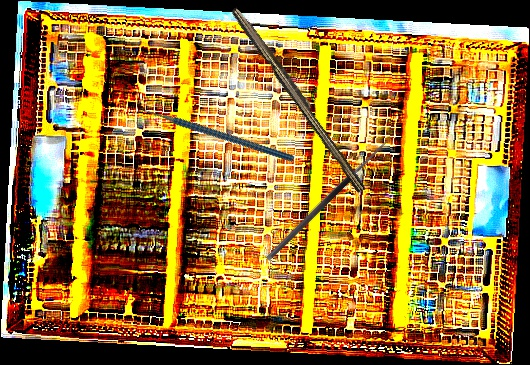Chopper: (126, 60, 296, 212)
Hook Surgical: (259, 129, 393, 263)
Scalpel Handle: (227, 4, 372, 194)
